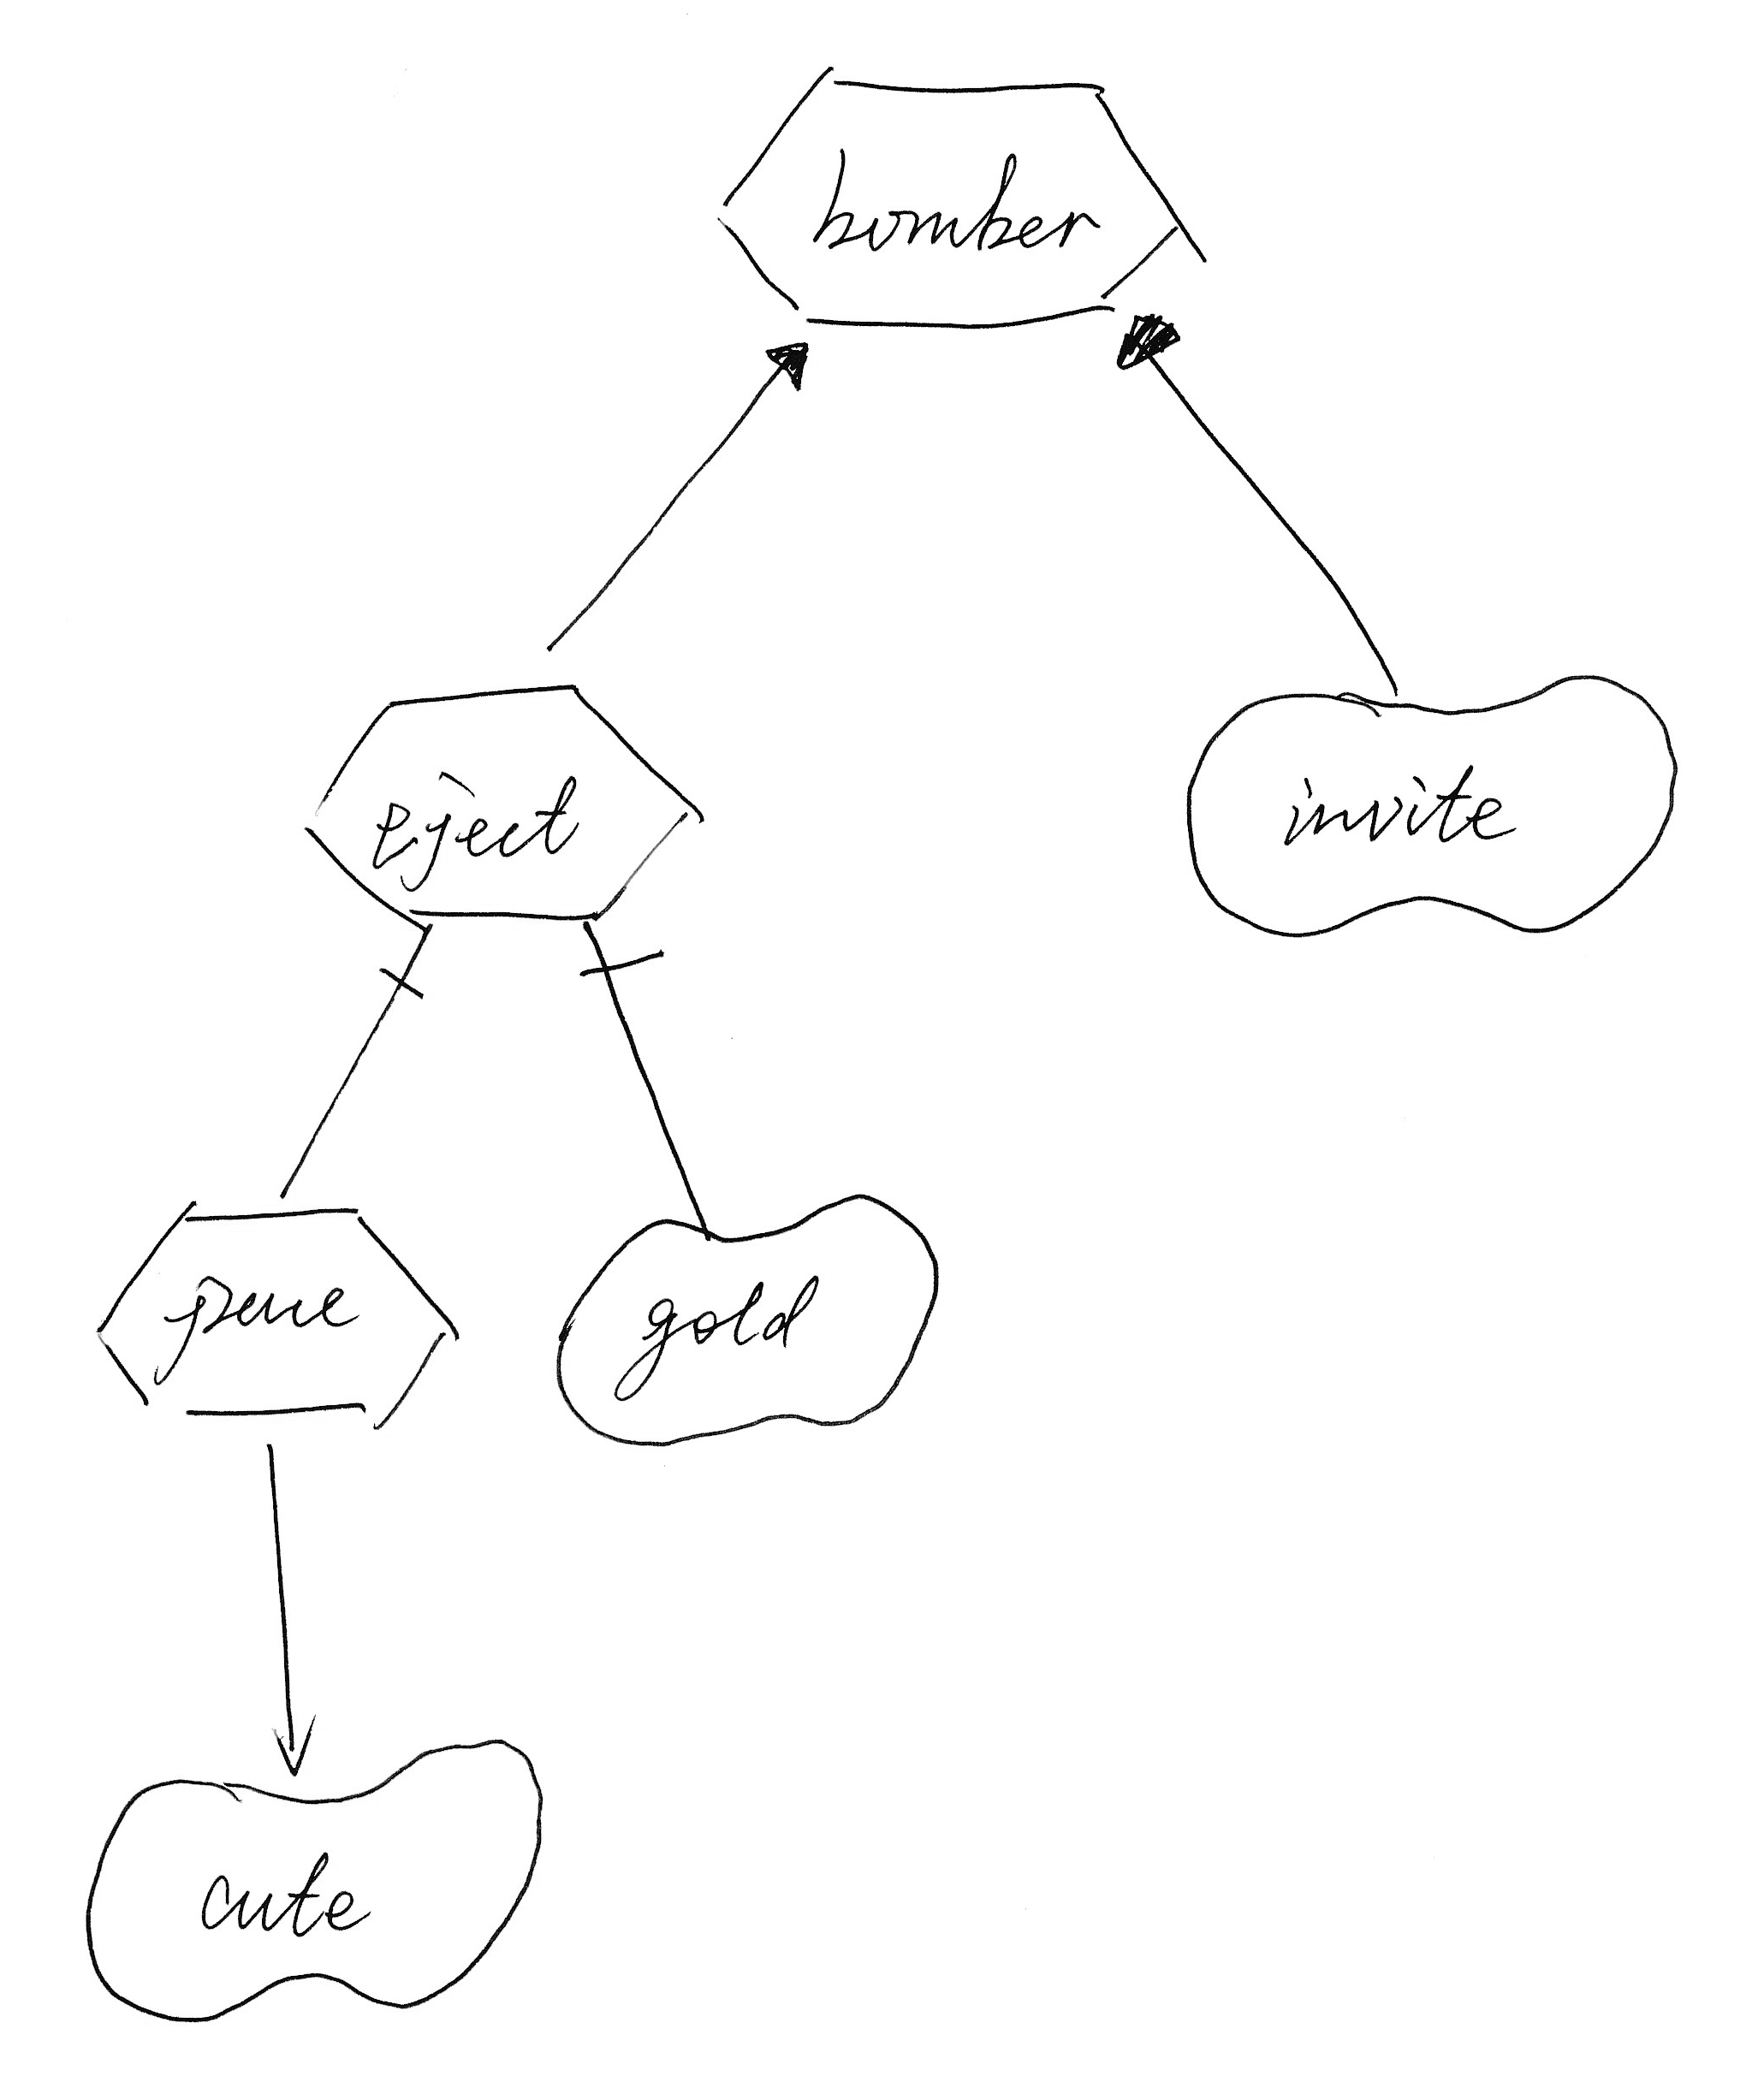and: (555, 933, 691, 1003), (364, 933, 441, 1019)
arrow: (252, 1698, 322, 1783)
or: (1102, 301, 1195, 389), (746, 320, 824, 406)
quality: (1164, 648, 1690, 963), (66, 1717, 553, 2039), (541, 1176, 952, 1460)
task: (705, 39, 1221, 348), (287, 667, 710, 940), (87, 1181, 481, 1444)
